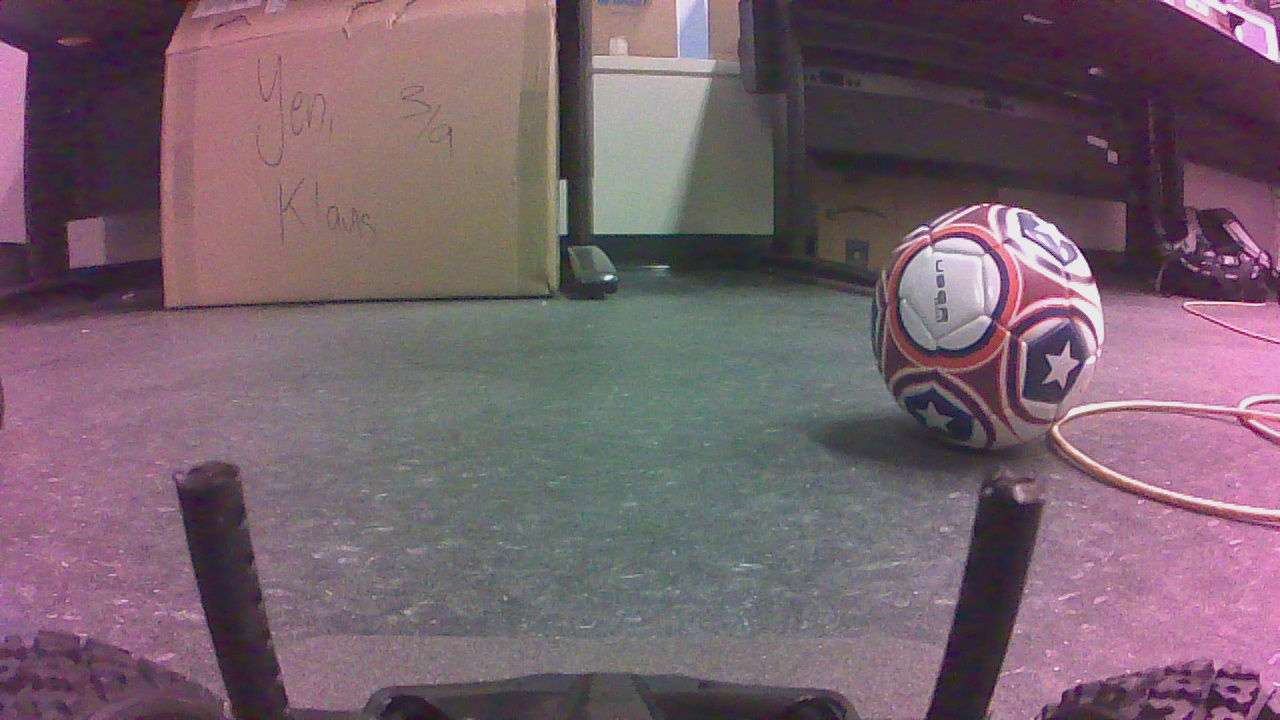ball: (873, 205, 1109, 457)
